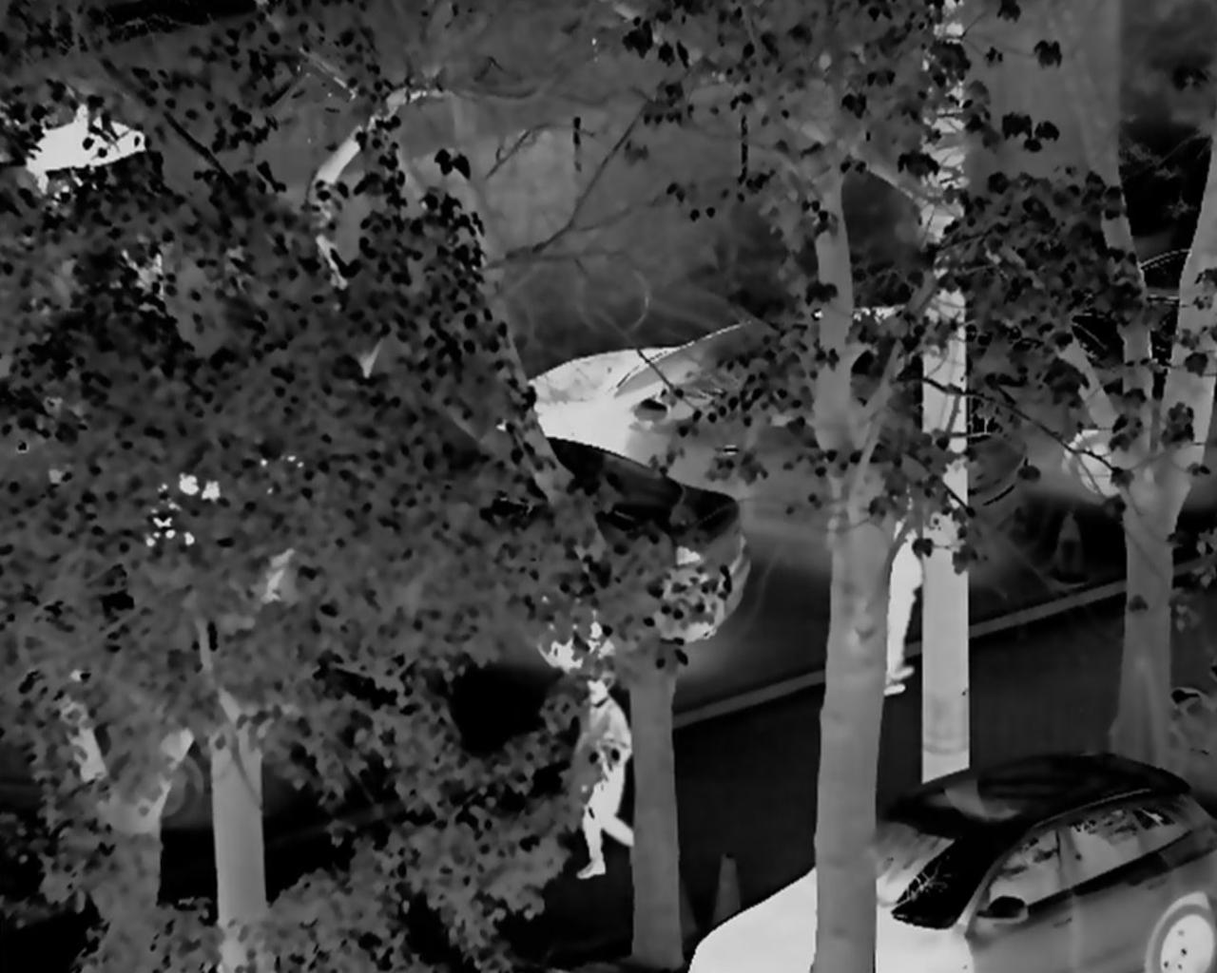person: (555, 670, 645, 876), (877, 500, 924, 712)
